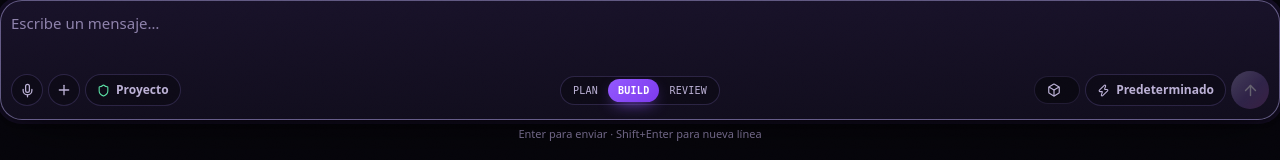
Scenario: comandos / en el compositor › muestra el menú con descripciones y skills, y completa al elegir
The width and height of the screenshot is (1280, 160).
Step 1. Type "/re" into the text box labelled "Escribe un mensaje…" → (640, 37), box [11,11,1269,63]
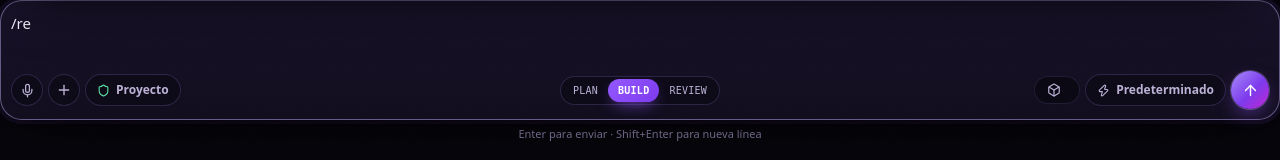
Step 2. Press Enter
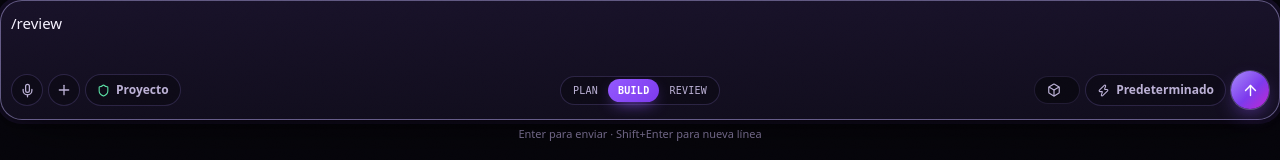
Now the text box named "mensaje" holds "/review ", box [11,11,1269,63]
